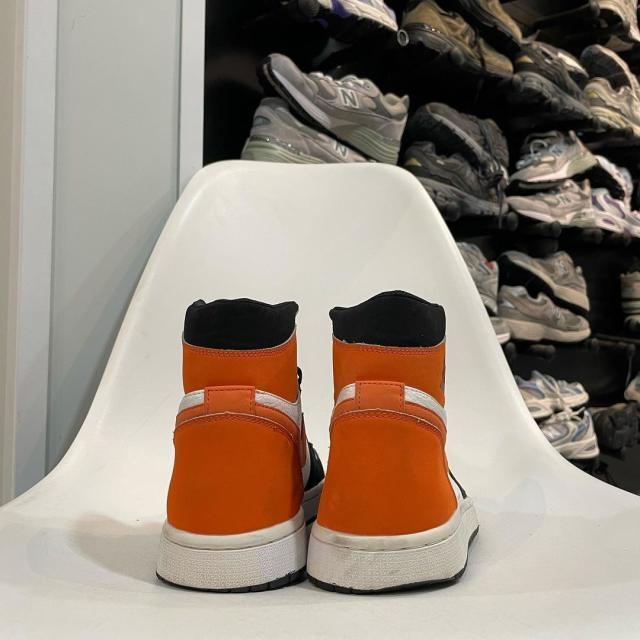nike fake jordan 1: (310, 288, 484, 592), (156, 292, 328, 590)
